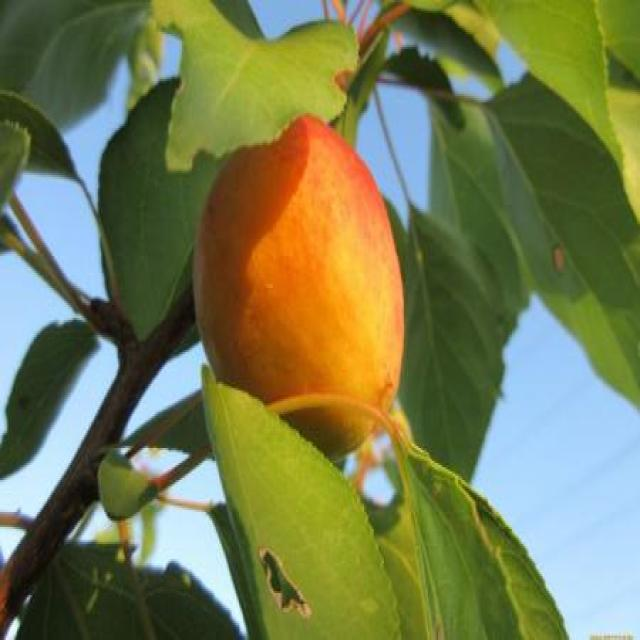kayisi: (208, 169, 348, 360)
yaprak: (158, 0, 344, 122), (237, 441, 346, 638)
